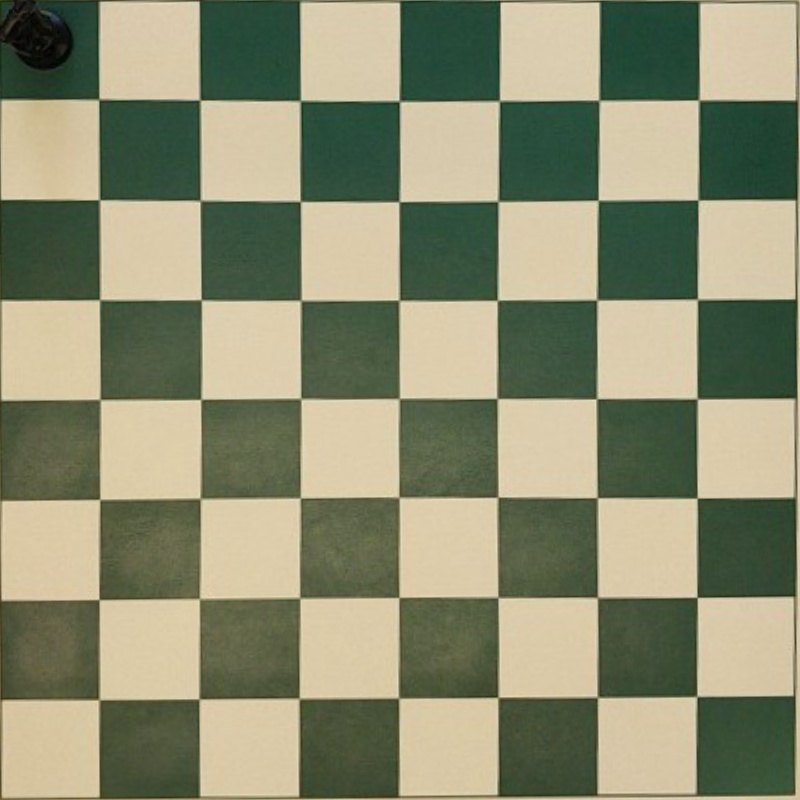black-knight: (0, 1, 72, 69)
